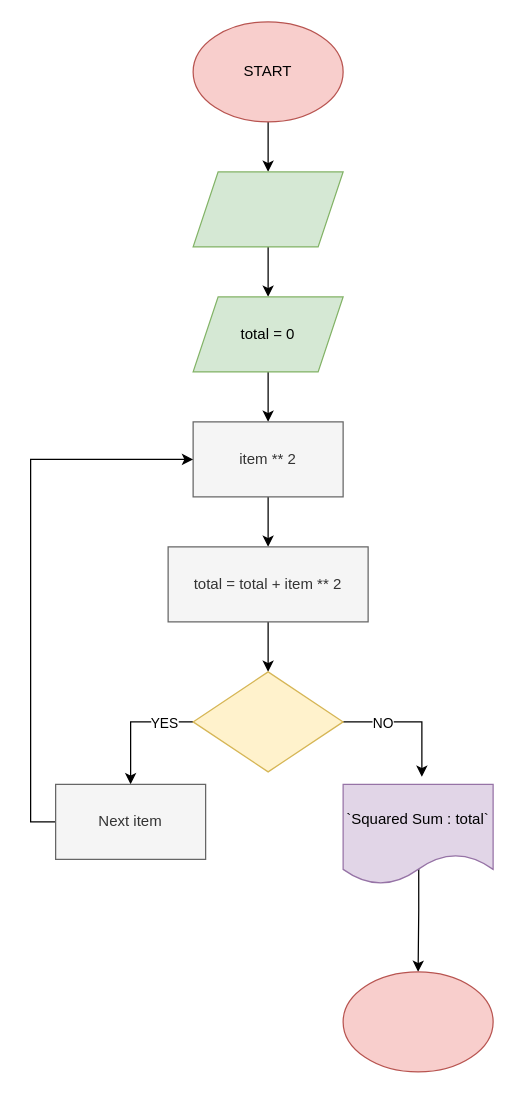
Image size: 515x1094. Some labels were removed from this diagram. Each missing label, with the centre of its shape:
array: pixel 267 209
END: pixel 417 1021
More items ?: pixel 267 721
